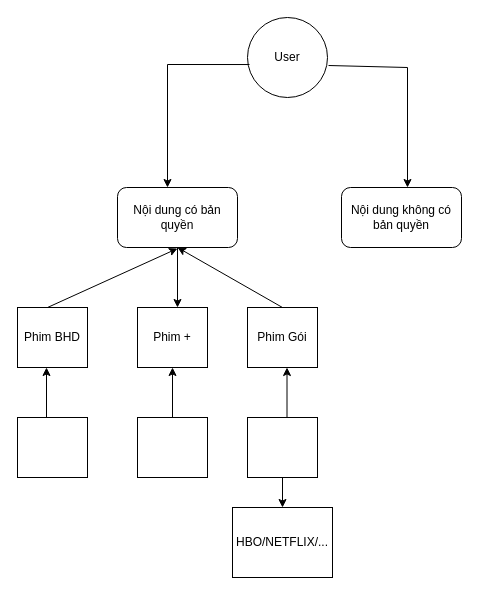
Image size: 479x595. Some labels were removed from this diagram. The shapes that lost their labels are listed below. From the top down, each one's centre as x and y in pixels, then its label:
At (x=52, y=447): "Log BHD".
At (x=172, y=447): "Log_Fim+".
At (x=282, y=447): "Log_Phim Gói".
